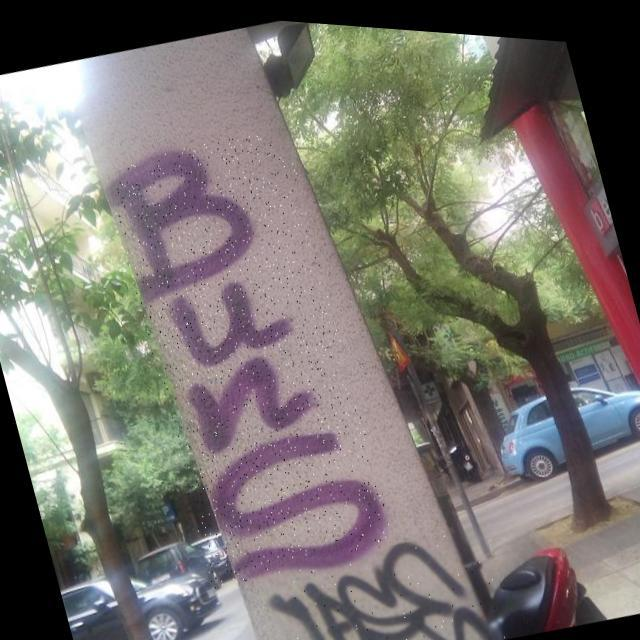-: (101, 113, 396, 595), (259, 506, 513, 640)
